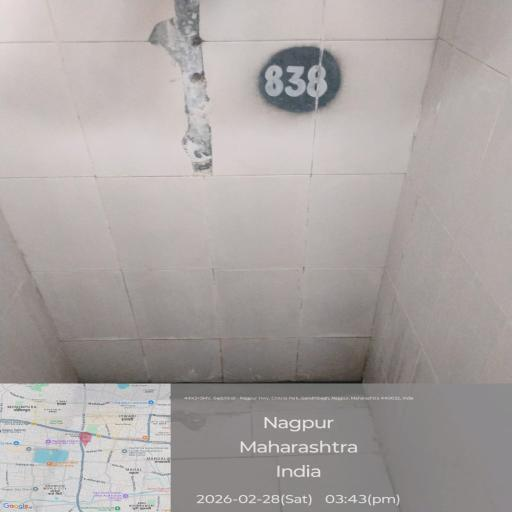clean_floor: (0, 1, 509, 262)
partial_dirty_floor: (18, 278, 448, 390)
